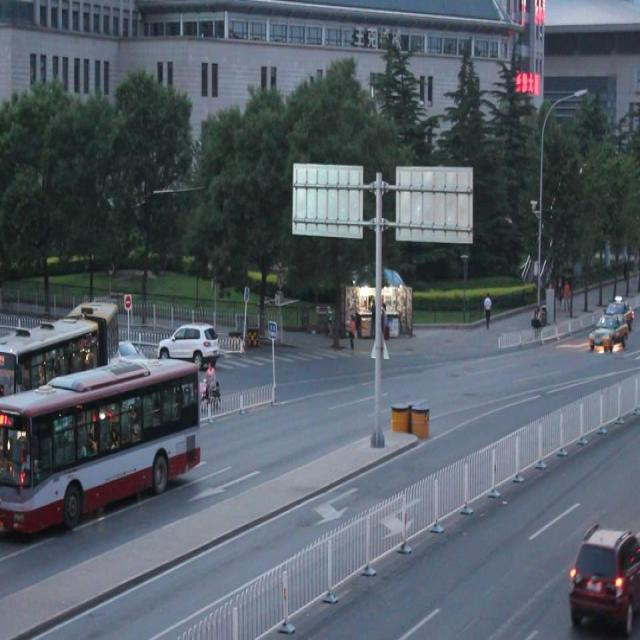car: (568, 524, 640, 624), (160, 315, 222, 361), (115, 334, 159, 384)
van: (1, 359, 202, 536), (1, 303, 119, 403)
